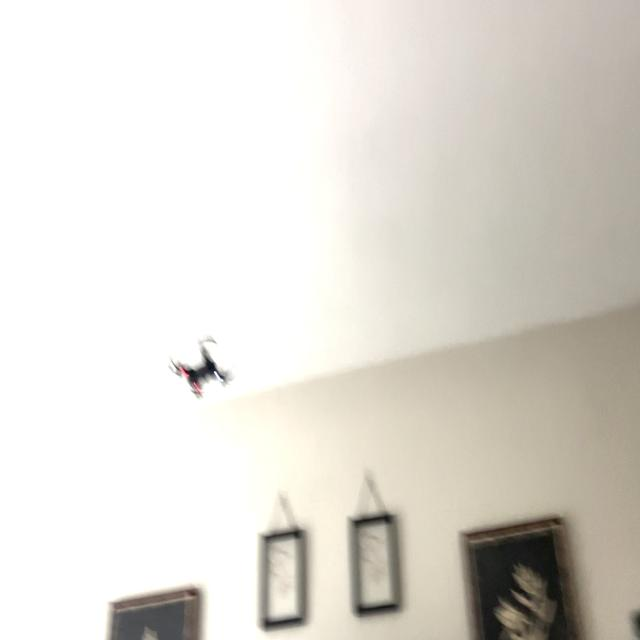drone: (148, 316, 238, 411)
